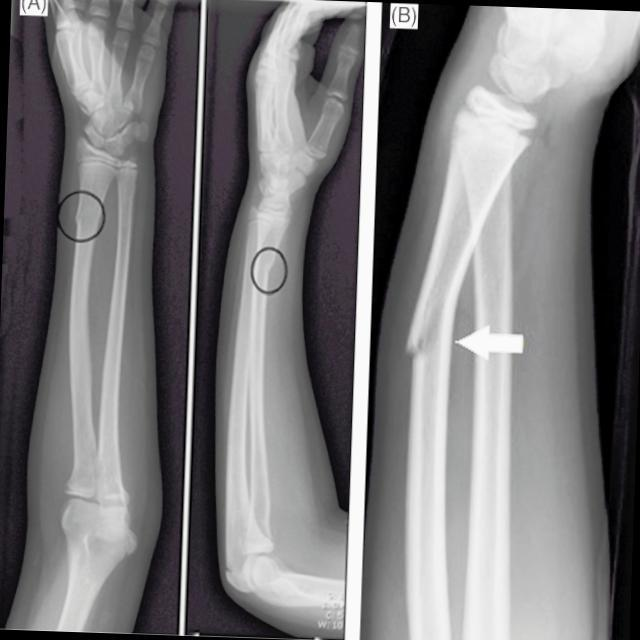GreenStick Fracture: (410, 322, 447, 362), (71, 209, 104, 231), (262, 264, 276, 284)
